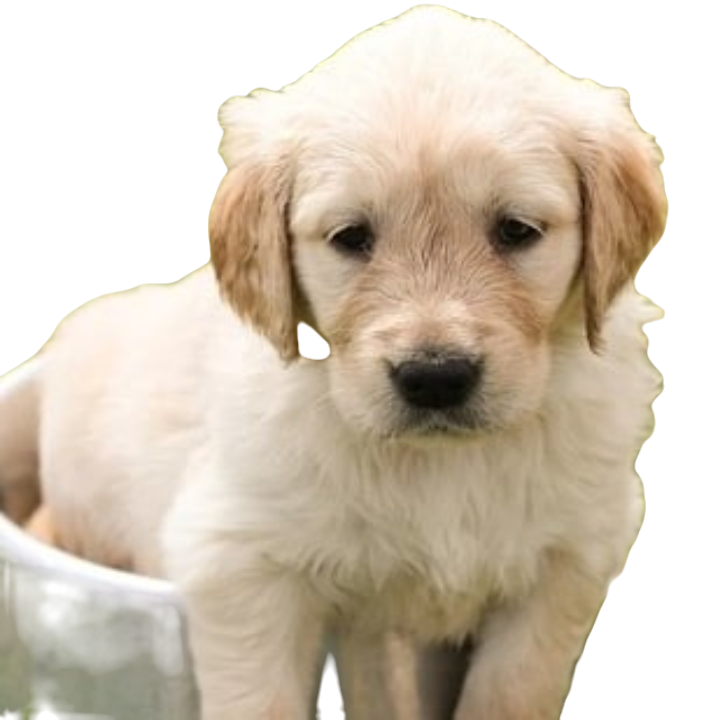Dog: (0, 0, 667, 712)
